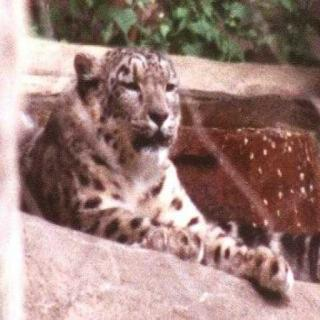-: (46, 44, 251, 244)
